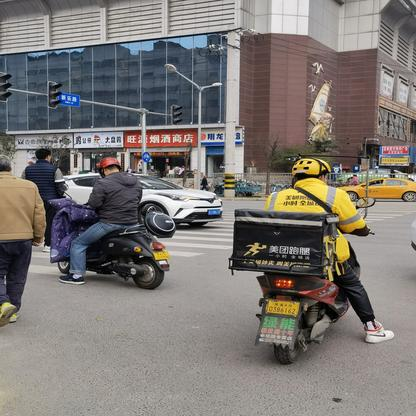target: (225, 153, 397, 367), (49, 155, 179, 290)
